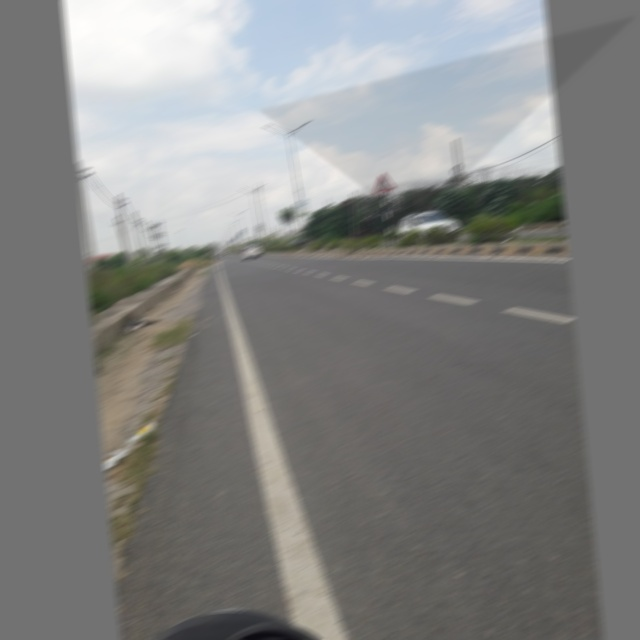Gap_in_Median: (367, 168, 397, 195)
